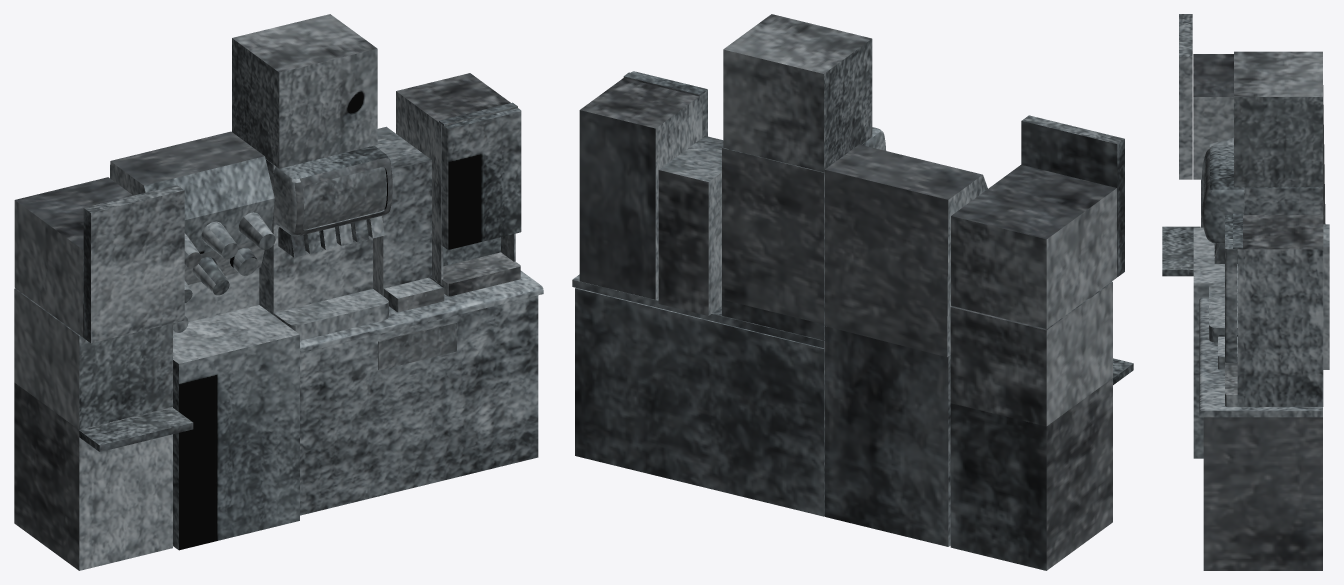
The model's file is store_75.obj.
3 views of the same model, side by side, from view 1: azimuth 30°, elevation 25°; view 2: azimuth 150°, elevation 25°; view 3: azimuth 270°, elevation 25° (orthographic). The views are drawn at different scales.
Bounding box in the file's own units: 182 × 162 × 60.28.
